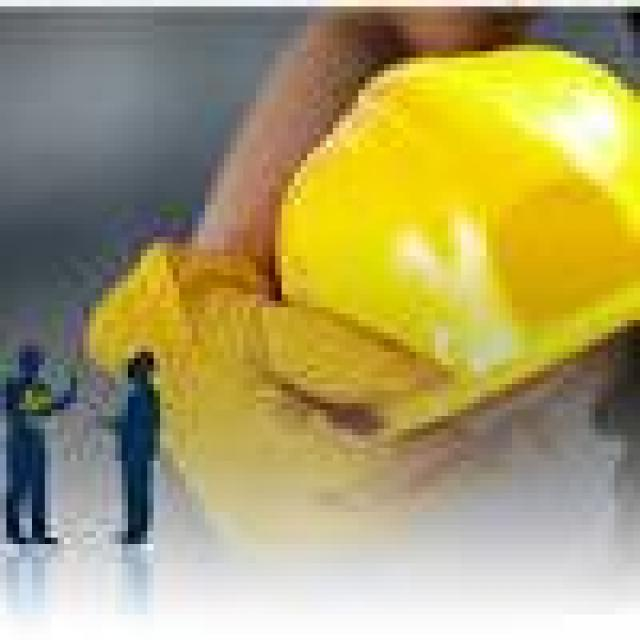Safety-Helmet: (19, 25, 640, 582), (256, 39, 640, 442)
